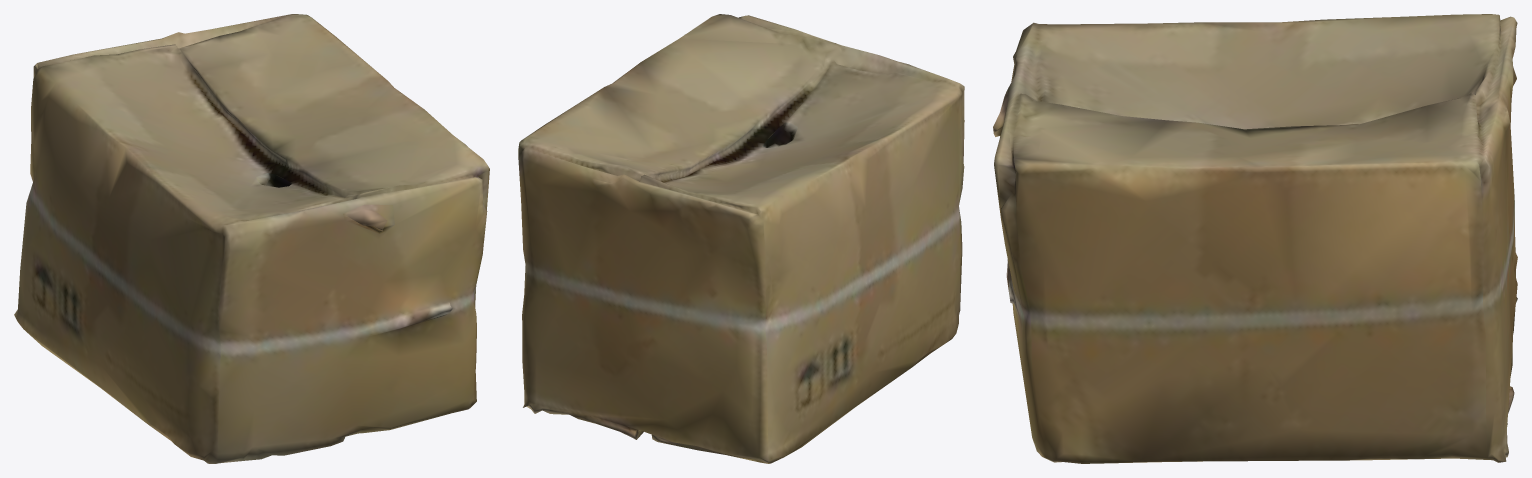
3 views of the same model, side by side, from view 1: azimuth 30°, elevation 25°; view 2: azimuth 150°, elevation 25°; view 3: azimuth 270°, elevation 25° (orthographic). The views are drawn at different scales.
Parts seen in each view (by area): view 1: cardboard_box_01; view 2: cardboard_box_01; view 3: cardboard_box_01.
Boxes of the visible parts, <box> form: cardboard_box_01: <box>14,14,489,463</box>; cardboard_box_01: <box>518,14,964,463</box>; cardboard_box_01: <box>993,14,1517,463</box>.
Size of the model in its own units: 0.3868 by 0.3407 by 0.5159.
Materials: 1 (1 with a texture image).
